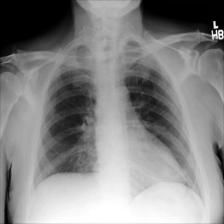normal: (29, 38, 208, 205)
